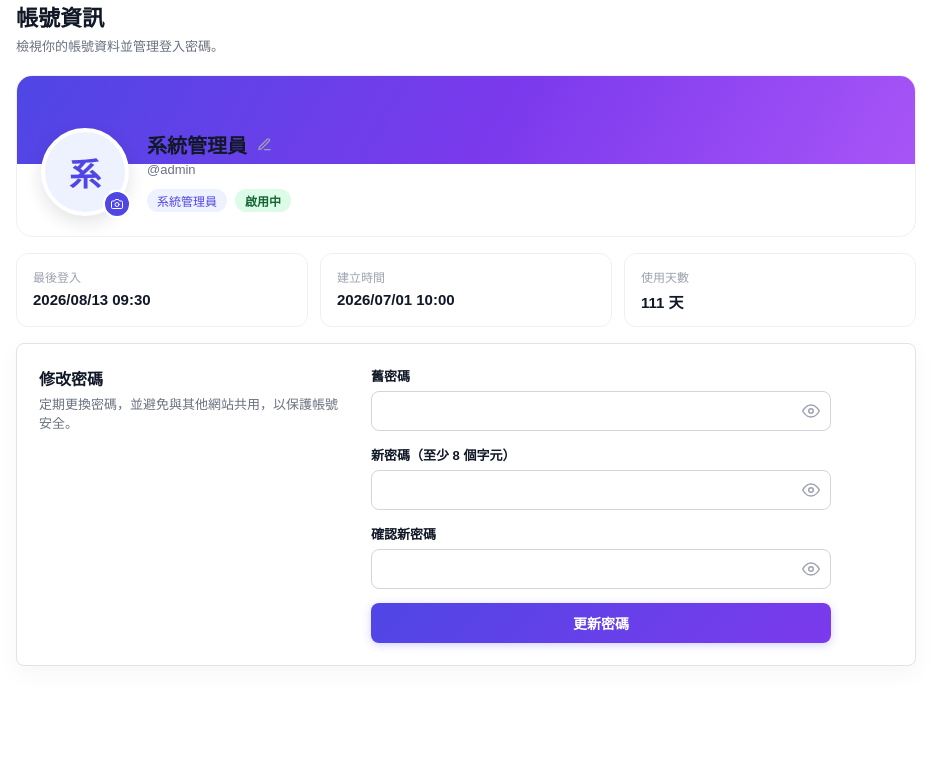
Test: ProfileView › 新密碼與舊密碼相同時擋下並提示
In the password field labelled "舊密碼": (601, 411) [371, 391, 831, 431], type "samepass"
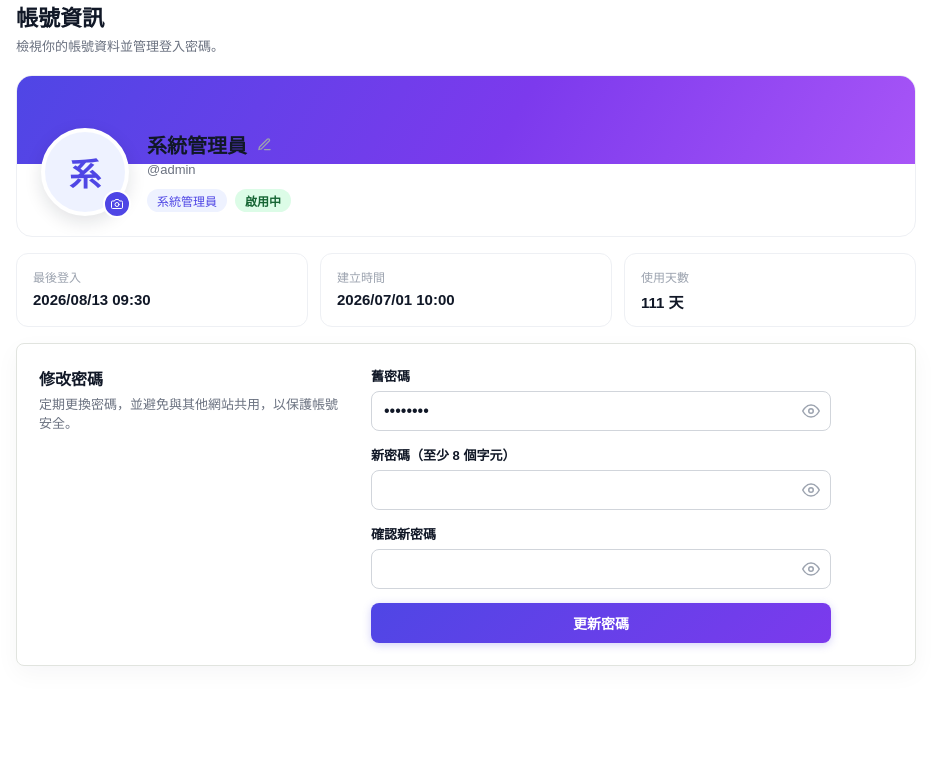
In the password field labelled "新密碼（至少 8 個字元）": (601, 490) [371, 470, 831, 510], type "samepass"
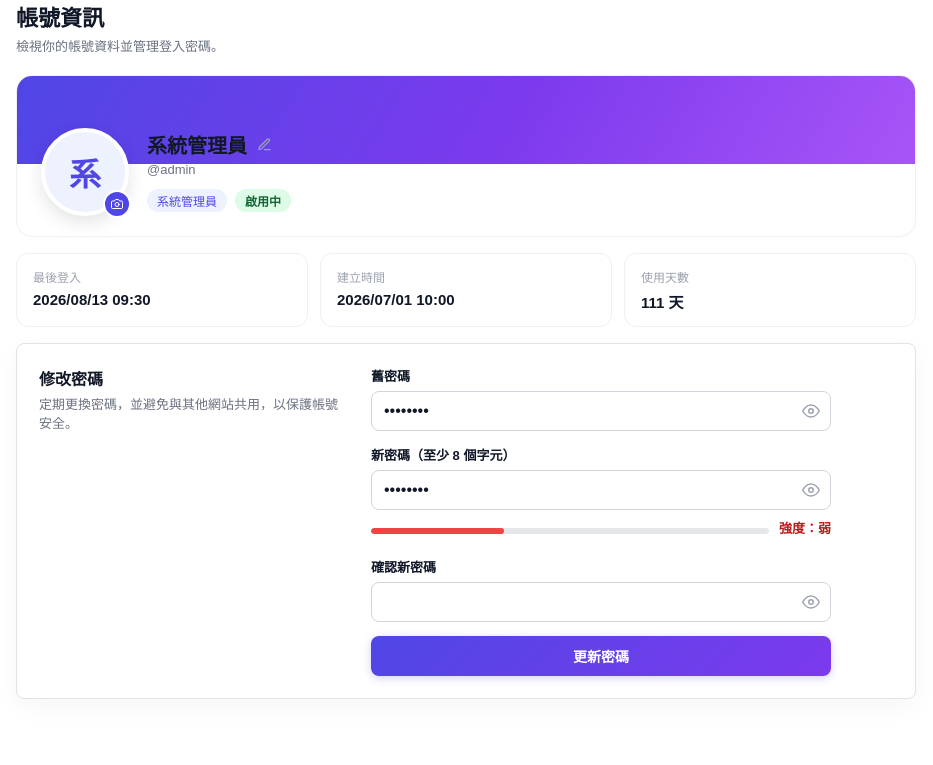
In the password field labelled "確認新密碼": (601, 602) [371, 582, 831, 622], type "samepass"
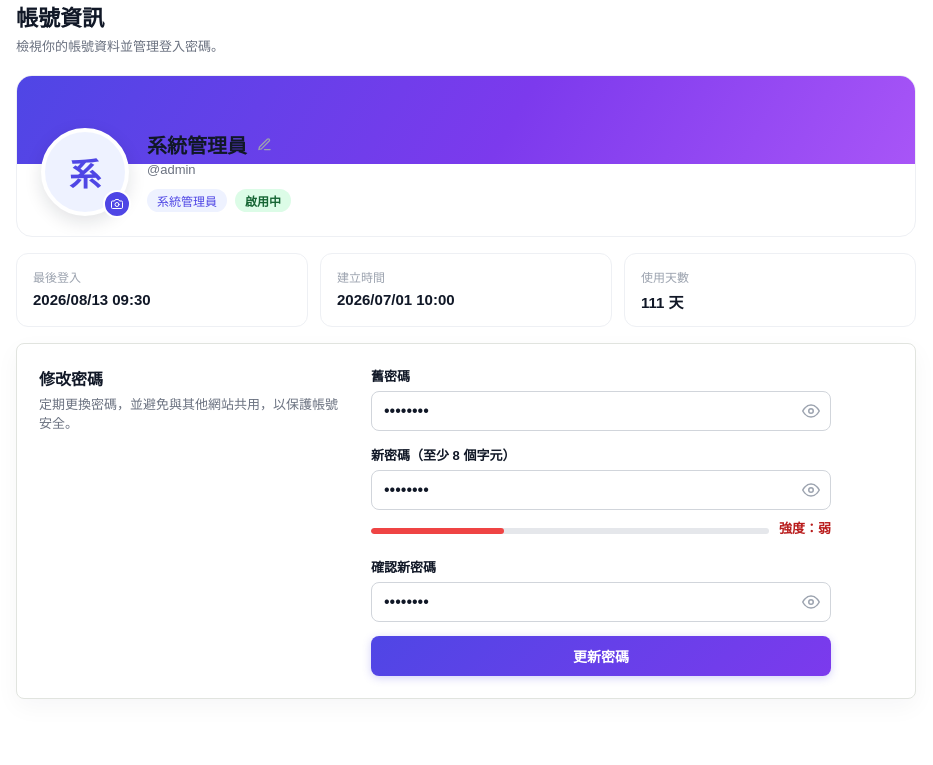
Note: jsdom 中點 submit 按鈕不一定觸發 form 送出，直接觸發 submit 事件。
Submit the form, box [371, 366, 831, 676]
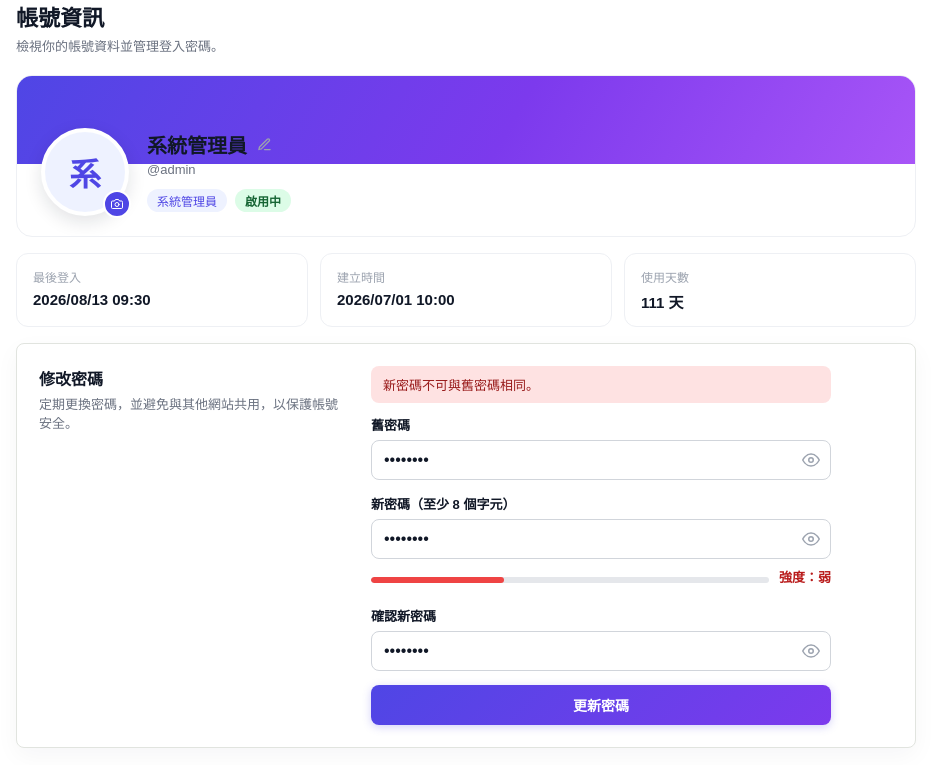
Expected: the text "新密碼不可與舊密碼相同" is shown, [383, 378, 539, 393]
